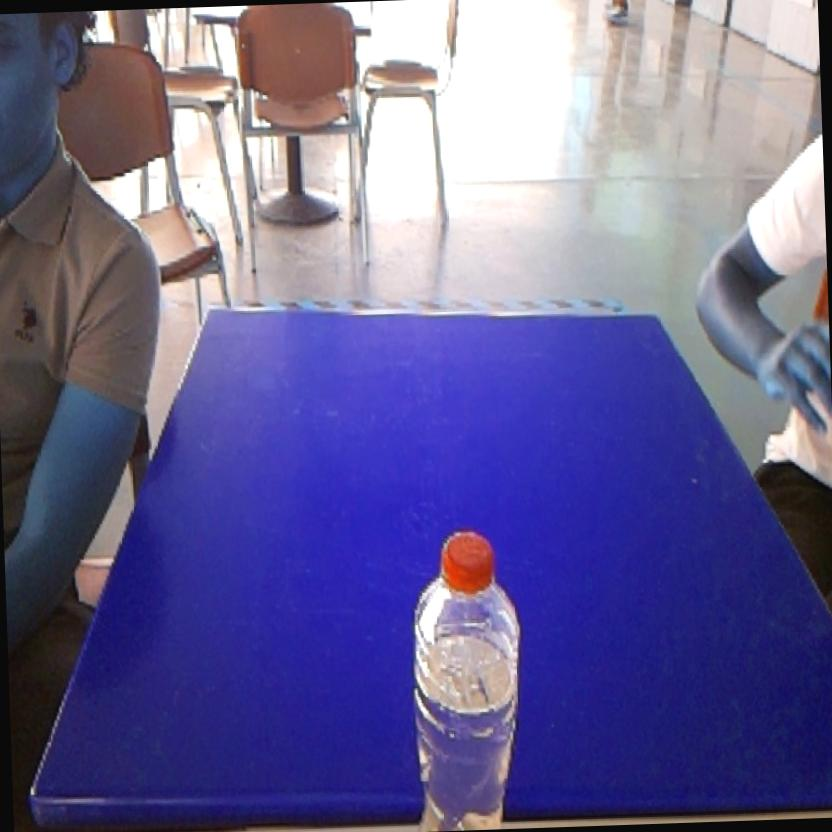no_label: (396, 518, 535, 826)
